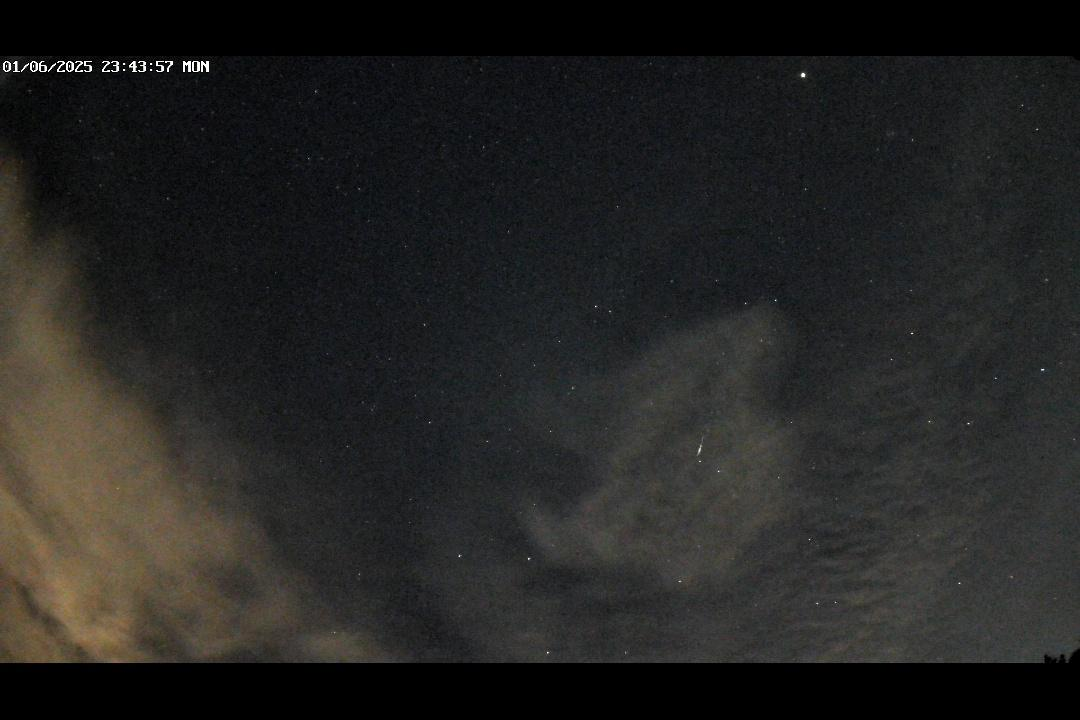meteorite: (692, 425, 713, 462)
